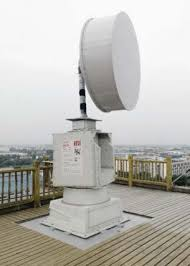ba: (74, 15, 151, 121)
